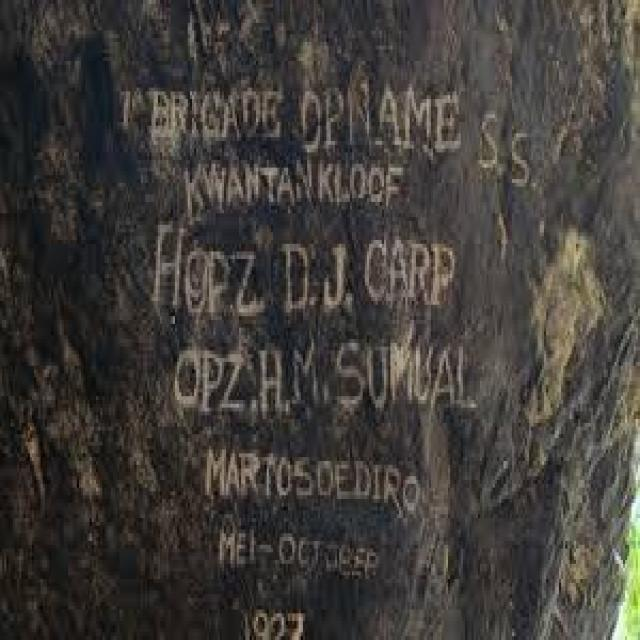nonspitting: (121, 87, 537, 640)
